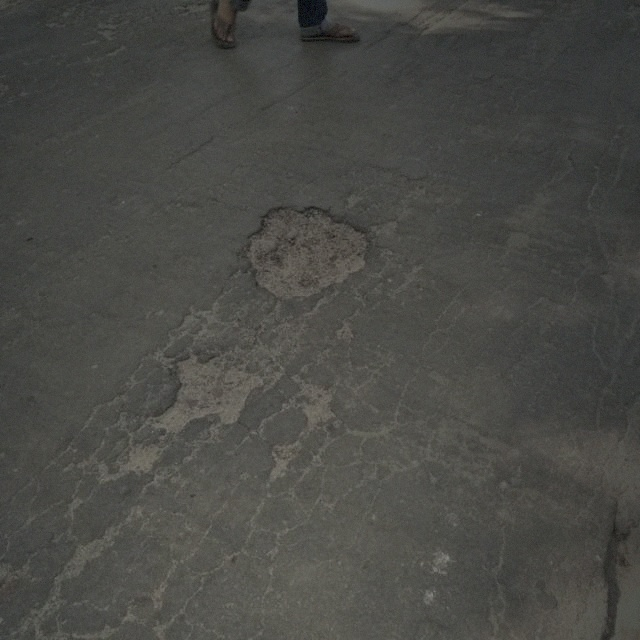pothole: (239, 201, 370, 300), (143, 350, 263, 431)
